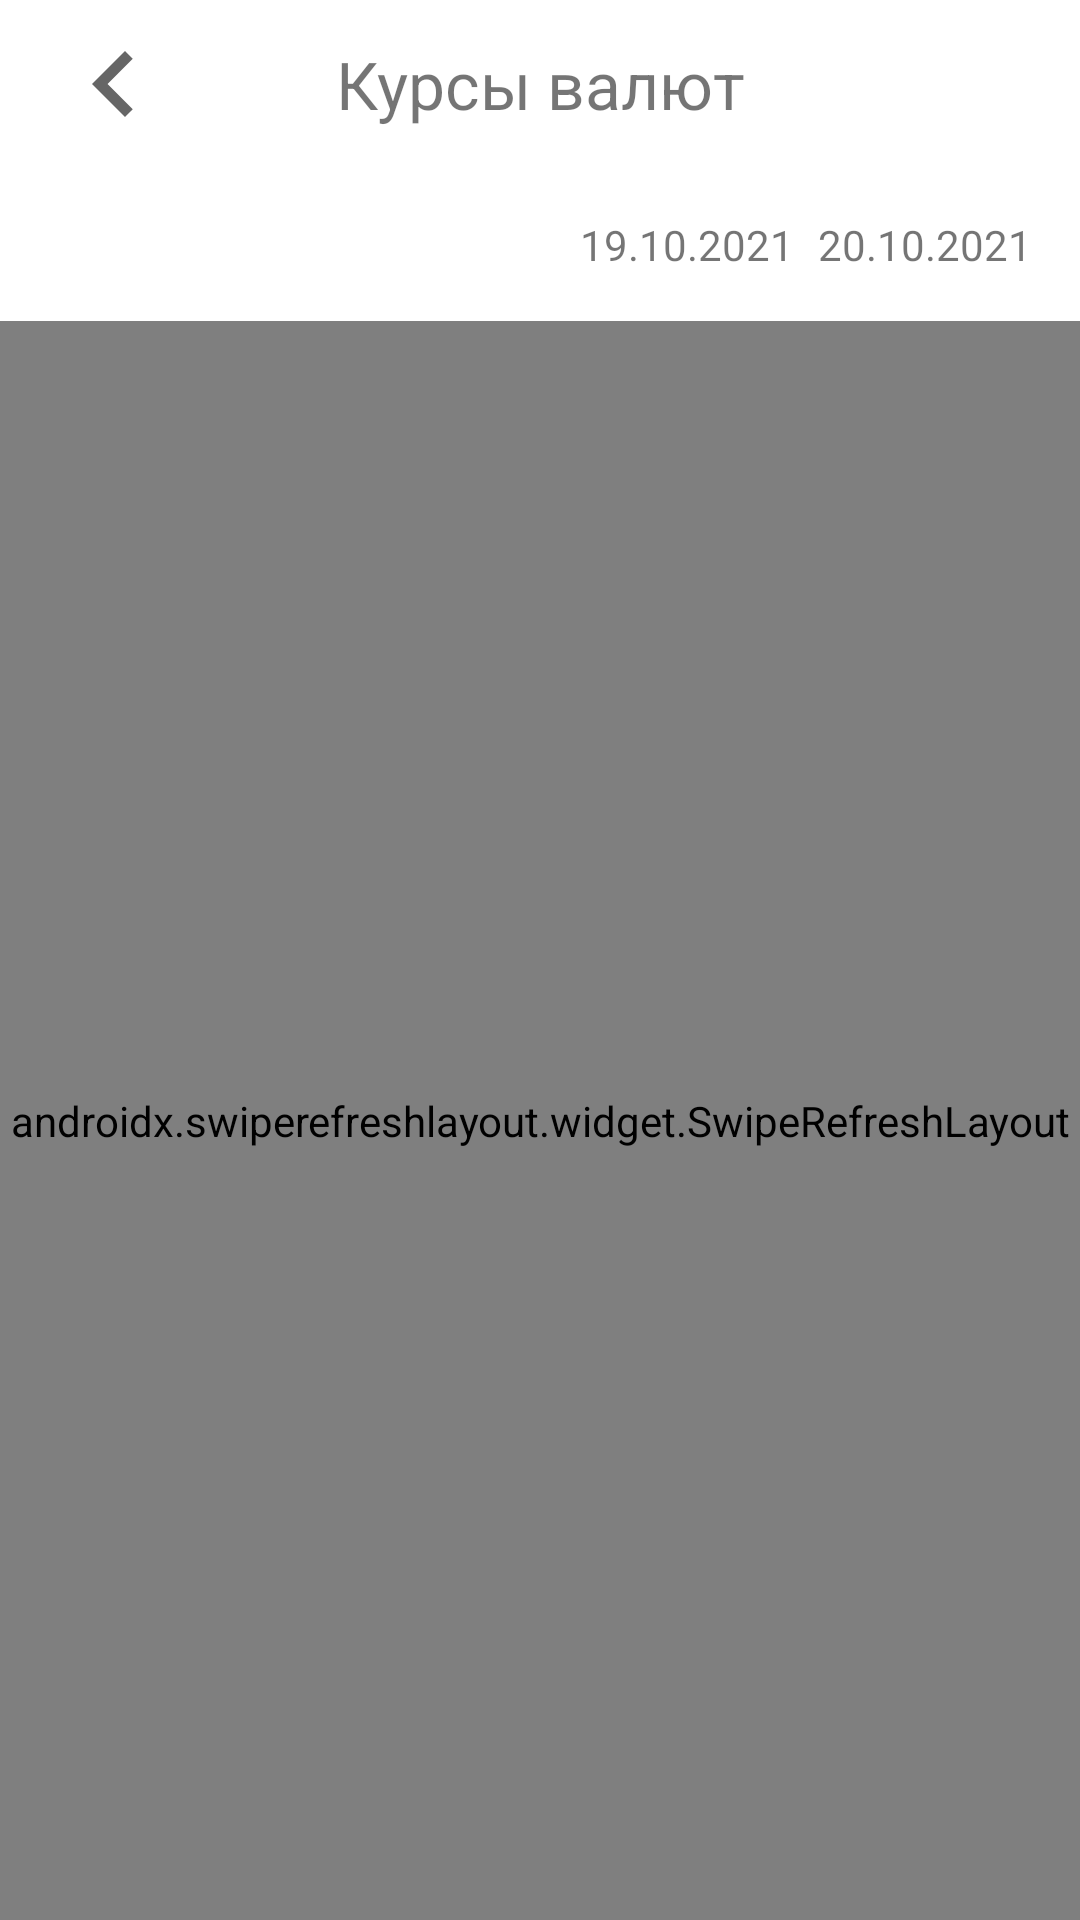

Where icons sit on this 1080w x 1920h app screen, as (x1, y1, x2, y2):
chevron left: (92, 51, 133, 117)
